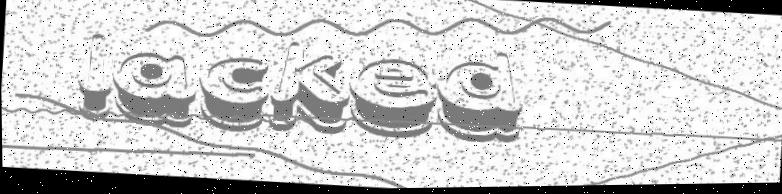a: (110, 50, 199, 130)
c: (197, 55, 271, 135)
d: (433, 51, 526, 148)
e: (347, 58, 439, 143)
k: (267, 41, 353, 136)
l: (75, 33, 117, 122)
